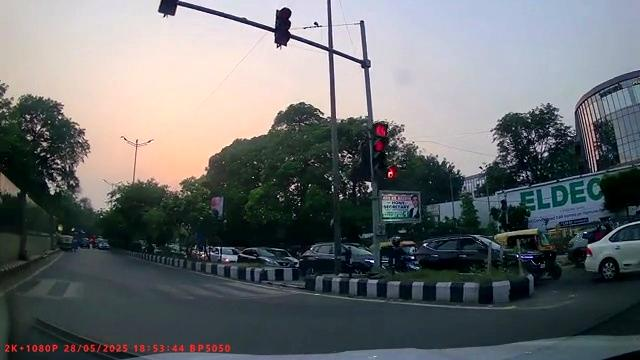motorcycle_with_helmet: (386, 236, 419, 273)
